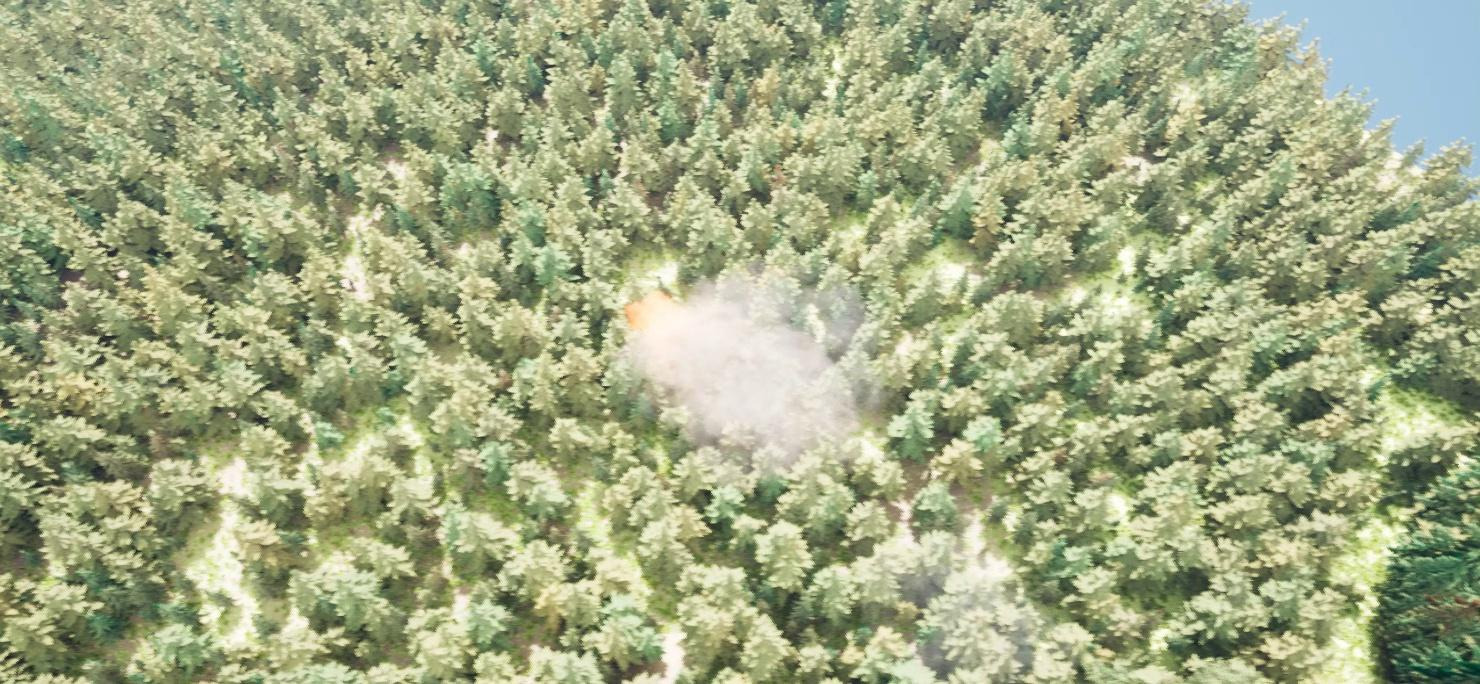smoke: (618, 273, 864, 478)
